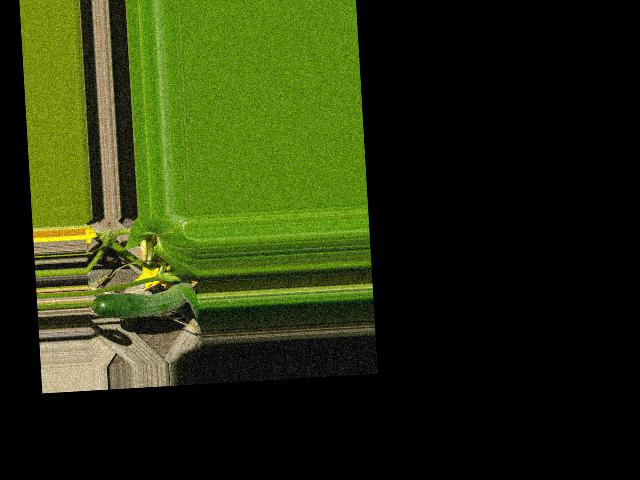cucumber: (93, 281, 200, 320)
